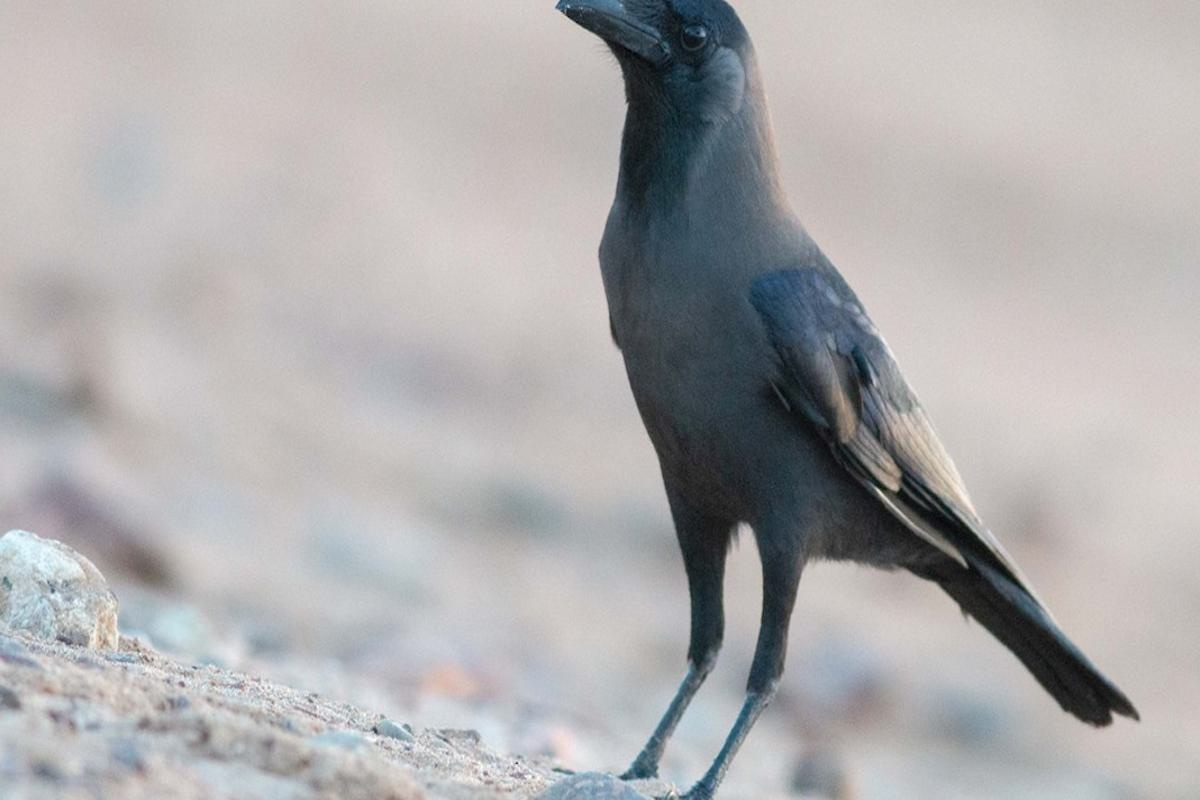crow: (538, 1, 1074, 800)
